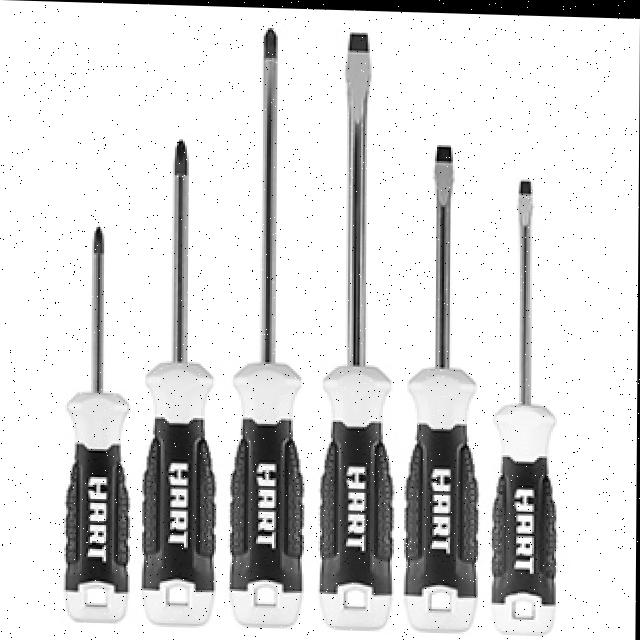Screwdriver: (320, 31, 393, 627), (232, 28, 304, 625), (144, 140, 216, 624), (407, 144, 478, 629), (493, 177, 557, 631), (67, 227, 130, 621)
